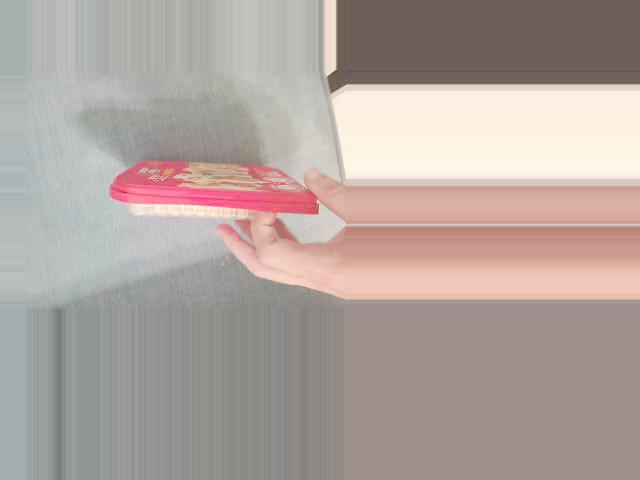cheese: (124, 162, 307, 237)
